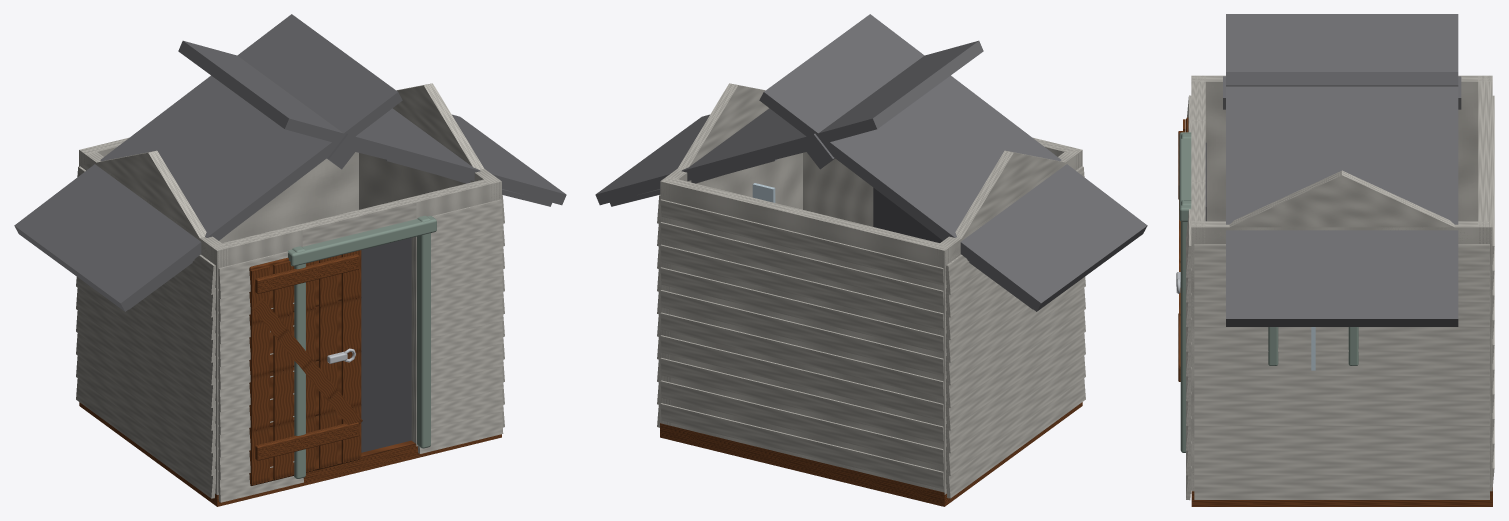
Rendered from halloween-slasher-street-garden-shed-f6d52979__27286.glb.
3 views of the same model, side by side, from view 1: azimuth 30°, elevation 25°; view 2: azimuth 150°, elevation 25°; view 3: azimuth 270°, elevation 25° (orthographic). The views are drawn at different scales.
Visible parts, largest first — view 1: garden-shed, door-shed/timber; view 2: garden-shed; view 3: garden-shed, door-shed/timber.
Part boxes in pixels (box(x1,y1,x2,y2)): garden-shed: box(14, 14, 566, 506); door-shed/timber: box(249, 250, 362, 485); garden-shed: box(595, 14, 1147, 506); garden-shed: box(1179, 14, 1494, 506); door-shed/timber: box(1178, 117, 1188, 381).
Bounding box in the file's own units: 3.92 × 2.98 × 2.22.
7 materials, 2 textured.
